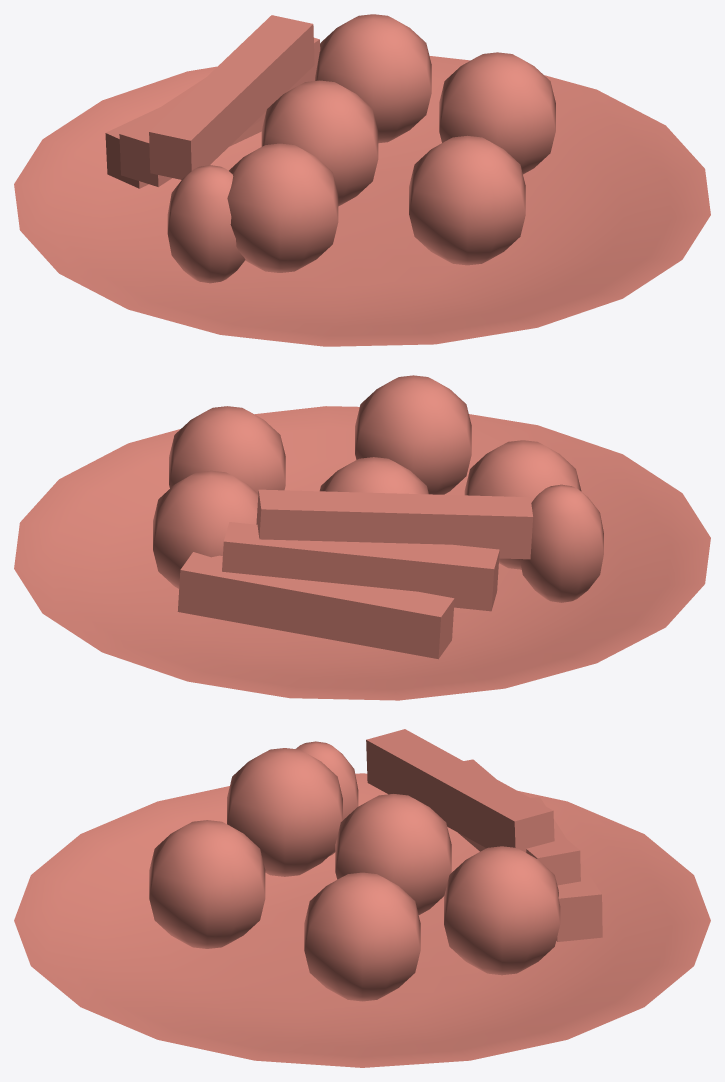
The model's file is KhayHoaQua_Nhua.glb.
3 renders of one model, top to bottom at view 1: azimuth 30°, elevation 25°; view 2: azimuth 150°, elevation 25°; view 3: azimuth 270°, elevation 25°, orthographic.
Parts seen in each view (by area): view 1: KhayHoaQua_Nhua; view 2: KhayHoaQua_Nhua; view 3: KhayHoaQua_Nhua.
Part boxes in pixels (left/top/right/bottom): KhayHoaQua_Nhua: left=14, top=14, right=710, bottom=346; KhayHoaQua_Nhua: left=14, top=375, right=710, bottom=700; KhayHoaQua_Nhua: left=14, top=729, right=710, bottom=1067.
Bounding box in the file's own units: 0.4494 × 0.115 × 0.4492.
